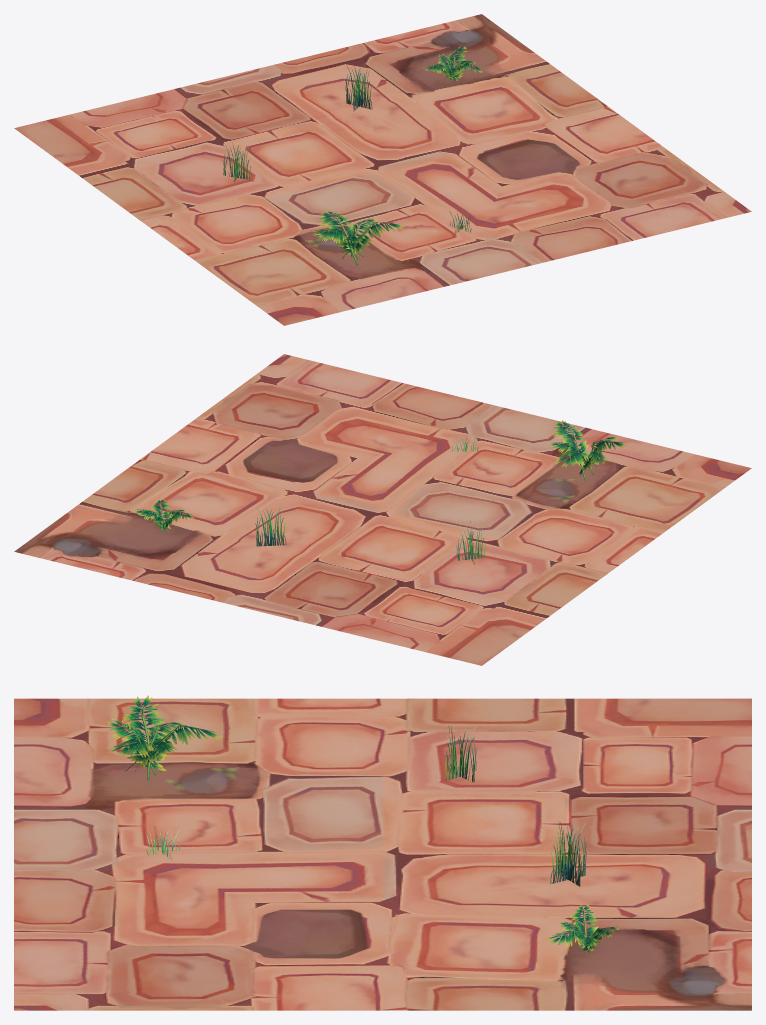
Rendered from SM_FloorType2.fbx.
3 renders of one model, top to bottom at view 1: azimuth 30°, elevation 25°; view 2: azimuth 150°, elevation 25°; view 3: azimuth 270°, elevation 25°, orthographic. The views are drawn at different scales.
Parts seen in each view (by area): view 1: SimpleFloorType2; view 2: SimpleFloorType2; view 3: SimpleFloorType2.
Part boxes in pixels (<box>): SimpleFloorType2: <box>14,14,751,325</box>; SimpleFloorType2: <box>14,354,751,665</box>; SimpleFloorType2: <box>14,695,751,1010</box>.
Bounding box in the file's own units: 200 × 28.79 × 200.
